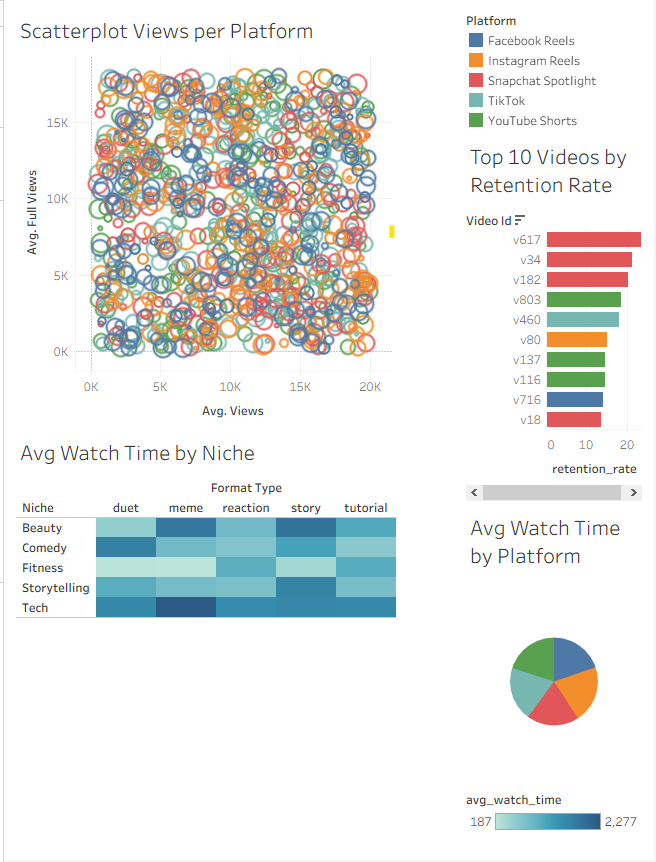

The dashboard page shown, as its layout file describes it:
{"tool":"tableau","page":{"name":"Dashboard 1","canvas":[650,860],"ordinal":0},"visuals":[{"type":"worksheet","title":"Sheet 2","mark":"Automatic","rows":["full_views"],"cols":["views"],"box":[8,8,450,422]},{"type":"legend","title":"Sheet 2","param":"[federated.0rrwudz08zh23z1a0vtr00umfljn].[none:platform:nk]","box":[458,8,184,126]},{"type":"worksheet","title":"Sheet 1","mark":"Bar","rows":["video_id"],"cols":["Calculation_736901525436334080"],"box":[458,134,184,371]},{"type":"worksheet","title":"Sheet 4","mark":"Automatic","rows":["niche"],"cols":["format_type"],"box":[8,430,450,422]},{"type":"worksheet","title":"Sheet 3","mark":"Pie","box":[458,505,184,282]},{"type":"legend","title":"Sheet 4","param":"[federated.0rrwudz08zh23z1a0vtr00umfljn].[sum:Calculation_736901525436489730:qk]","box":[458,787,184,65]}]}

Visuals, with their boxes in screenshot pixels (x1, y1, x2, y2), scaled from the page's 650x860 canvas onto the 656x862 screenshot:
"Sheet 2" worksheet: x1=8 y1=8 x2=462 y2=431
"Sheet 2" legend: x1=462 y1=8 x2=648 y2=134
"Sheet 1" worksheet (Bar marks): x1=462 y1=134 x2=648 y2=506
"Sheet 4" worksheet: x1=8 y1=431 x2=462 y2=854
"Sheet 3" worksheet (Pie marks): x1=462 y1=506 x2=648 y2=789
"Sheet 4" legend: x1=462 y1=789 x2=648 y2=854
